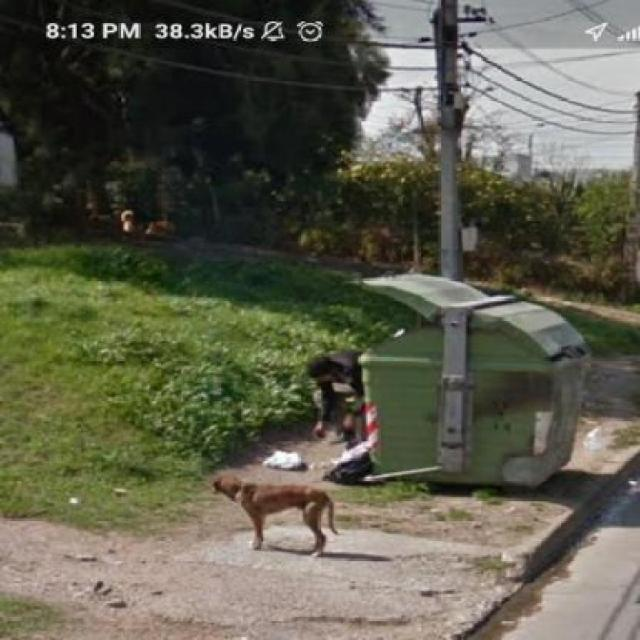garbage: (257, 440, 313, 477), (574, 412, 607, 466)
